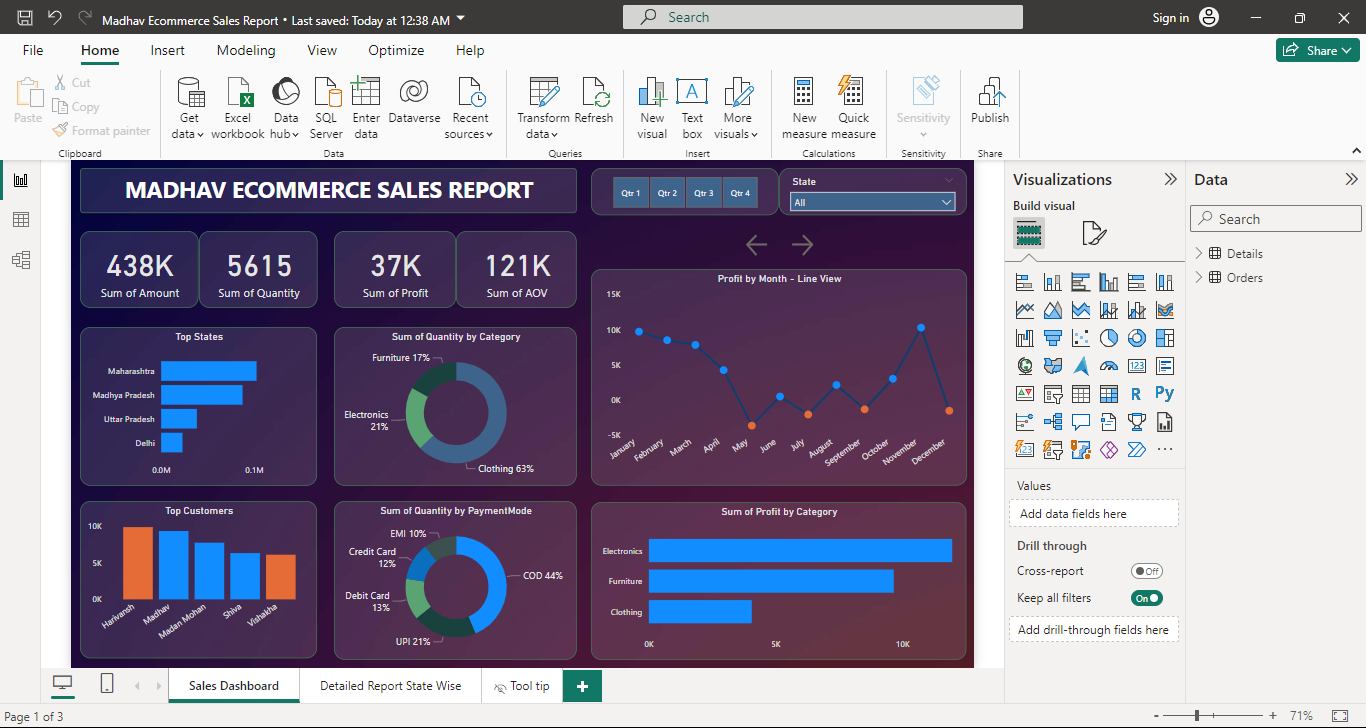

What the dashboard file says about the page in this screenshot:
{"tool":"powerbi","page":{"name":"Sales Dashboard","canvas":[1280,720],"ordinal":0},"visuals":[{"type":"textbox","box":[13.4,11.8,703.8,63.8],"z":0},{"type":"clusteredColumnChart","title":"Profit by Month - Bar View","fields":{"Y":["Details.Profit"],"Category":["Orders.Order Date.Variation.Date Hierarchy.Month"]},"box":[736.7,151.8,532.8,309.6],"z":1000},{"type":"barChart","fields":{"Y":["Details.Profit"],"Category":["Details.Category","Details.Sub-Category"]},"box":[736.8,484,532.4,224.1],"z":2000},{"type":"pieChart","fields":{"Category":["Details.Category"],"Y":["Details.Quantity"]},"box":[372.9,236.9,344.4,225.1],"z":3000},{"type":"pieChart","fields":{"Y":["Details.Quantity"],"Category":["Details.PaymentMode"]},"box":[372.9,483.8,344.4,225.1],"z":4000},{"type":"card","fields":{"Values":["Details.Profit"]},"box":[372.9,100.8,173,109.2],"z":5000},{"type":"card","fields":{"Values":["Details.Amount"]},"box":[13.4,100.8,168,109.2],"z":6000},{"type":"card","fields":{"Values":["Details.Quantity"]},"box":[181.4,100.8,168,109.2],"z":7000},{"type":"card","fields":{"Values":["Details.Avg Order Value"]},"box":[545.9,100.8,171.3,109.2],"z":8000},{"type":"barChart","title":"Top States","fields":{"Y":["Details.Amount"],"Category":["Orders.State"]},"box":[13.4,236.9,336,225.1],"z":9000},{"type":"columnChart","title":"Top Customers","fields":{"Category":["Orders.Customer Name"],"Y":["Details.Amount"]},"box":[13.4,483.8,336,223.4],"z":10000},{"type":"slicer","fields":{"Values":["Orders.Order Date.Variation.Date Hierarchy.Quarter"]},"box":[736.7,11.9,266.4,67],"z":11000},{"type":"slicer","fields":{"Values":["Orders.State"]},"box":[1003.2,11.9,266.4,67],"z":12000},{"type":"actionButton","box":[952.6,101.2,101.2,40.2],"z":14000},{"type":"actionButton","box":[1016.6,101.2,101.2,40.2],"z":15000}]}

Visuals, with their boxes on the page's 1280x720 design canvas (x1, y1, x2, y2). These are canvas units, not pixel positions in the 1366x728 screenshot, which may show the page scaled, cropped or inside an application window:
textbox: detection(13, 12, 717, 76)
"Profit by Month - Bar View" clusteredColumnChart: detection(737, 152, 1270, 461)
barChart - Details.Profit x Details.Category: detection(737, 484, 1269, 708)
pieChart - Details.Category x Details.Quantity: detection(373, 237, 717, 462)
pieChart - Details.Quantity x Details.PaymentMode: detection(373, 484, 717, 709)
card - Details.Profit: detection(373, 101, 546, 210)
card - Details.Amount: detection(13, 101, 181, 210)
card - Details.Quantity: detection(181, 101, 349, 210)
card - Details.Avg Order Value: detection(546, 101, 717, 210)
"Top States" barChart: detection(13, 237, 349, 462)
"Top Customers" columnChart: detection(13, 484, 349, 707)
slicer - Orders.Order Date.Variation.Date Hierarchy.Quarter: detection(737, 12, 1003, 79)
slicer - Orders.State: detection(1003, 12, 1270, 79)
actionButton: detection(953, 101, 1054, 141)
actionButton: detection(1017, 101, 1118, 141)
